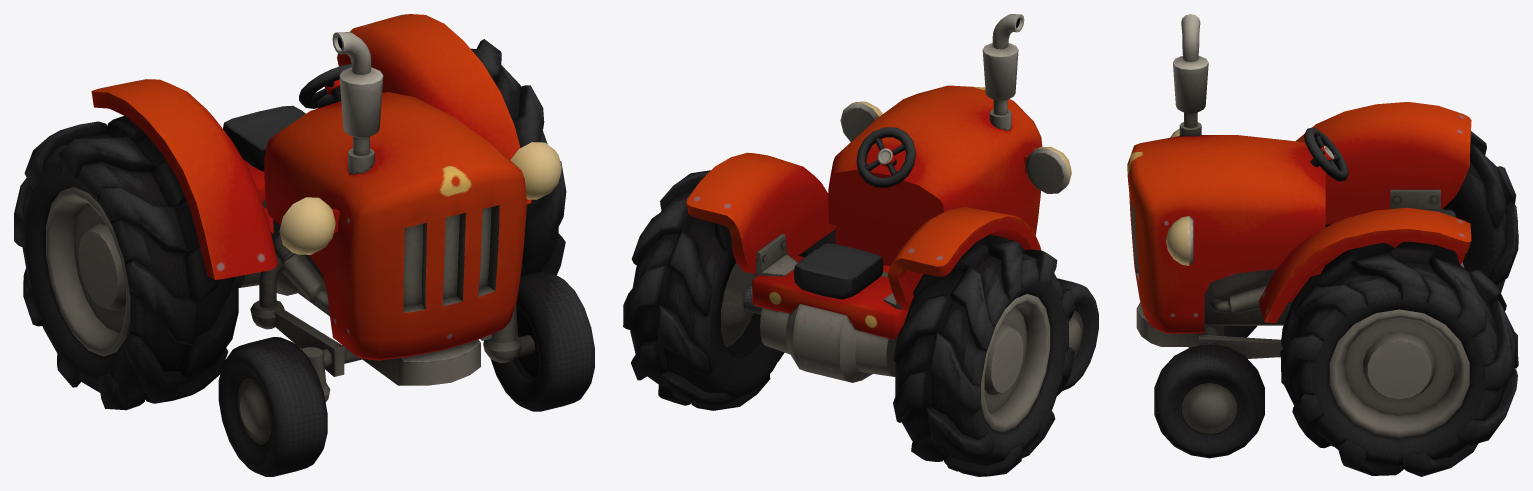
File: Farm_Vehicle_Tractor_01.fbx
3 views of the same model, side by side, from view 1: azimuth 30°, elevation 25°; view 2: azimuth 150°, elevation 25°; view 3: azimuth 270°, elevation 25° (orthographic). The views are drawn at different scales.
Visible parts, largest first — view 1: Tractor_Body, Rear_Wheel_R, Front_Wheel_R, Front_Wheel_L, Rear_Wheel_L, Tractor_Steering; view 2: Tractor_Body, Rear_Wheel_R, Rear_Wheel_L, Front_Wheel_R, Tractor_Steering; view 3: Tractor_Body, Rear_Wheel_L, Front_Wheel_L, Rear_Wheel_R, Tractor_Steering.
Part boxes in pixels (bbox=[...]): Tractor_Body: bbox=[91, 14, 561, 385]; Rear_Wheel_R: bbox=[14, 115, 238, 410]; Front_Wheel_R: bbox=[218, 337, 330, 476]; Front_Wheel_L: bbox=[483, 272, 594, 411]; Rear_Wheel_L: bbox=[471, 39, 566, 276]; Tractor_Steering: bbox=[299, 64, 351, 108]; Tractor_Body: bbox=[686, 14, 1071, 382]; Rear_Wheel_R: bbox=[893, 234, 1075, 476]; Rear_Wheel_L: bbox=[623, 170, 807, 410]; Front_Wheel_R: bbox=[1057, 278, 1098, 390]; Tractor_Steering: bbox=[856, 127, 915, 187]; Tractor_Body: bbox=[1127, 14, 1471, 358]; Rear_Wheel_L: bbox=[1280, 242, 1518, 476]; Front_Wheel_L: bbox=[1154, 344, 1264, 458]; Rear_Wheel_R: bbox=[1325, 131, 1518, 292]; Tractor_Steering: bbox=[1304, 127, 1348, 181].
Bounding box in the file's own units: 2.6 × 2.51 × 2.51.
